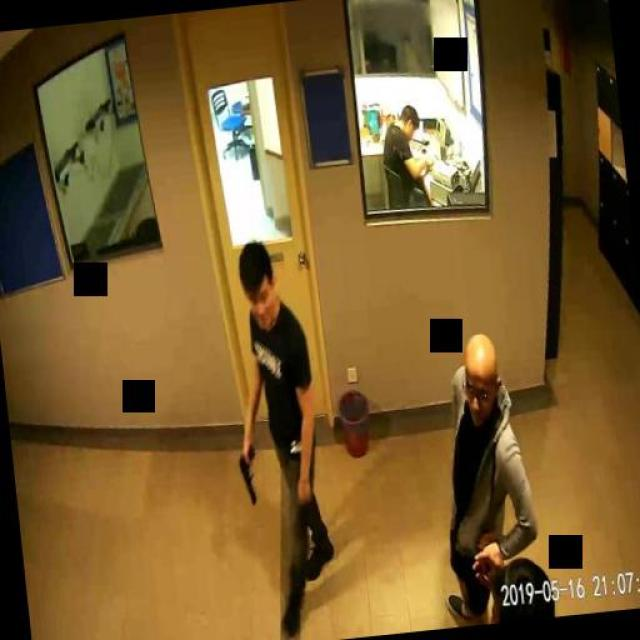gun: (236, 445, 259, 504)
